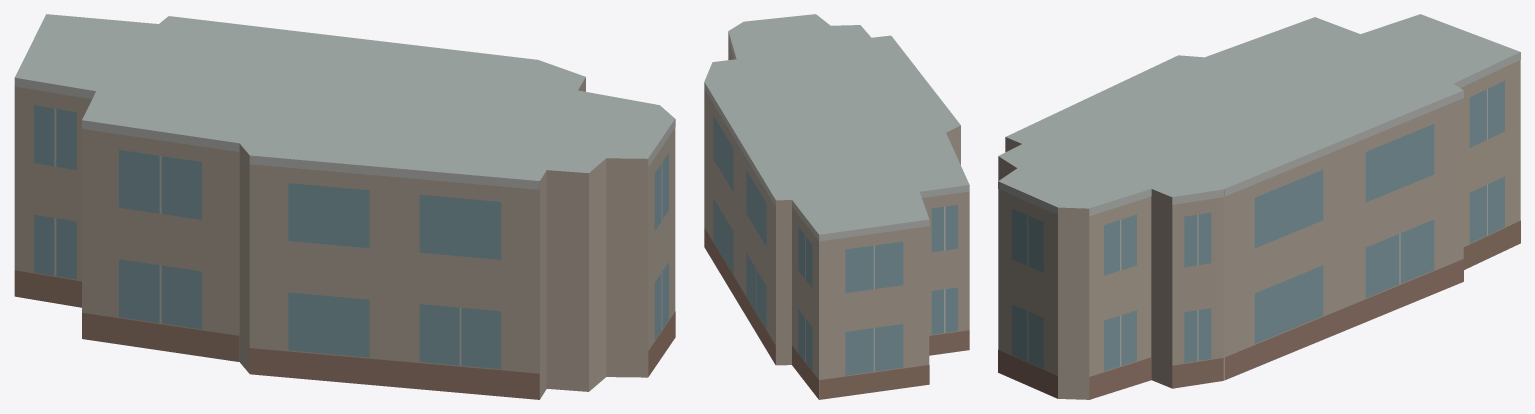
Rendered from survey-upis-32525520.glb.
3 views of the same model, side by side, from view 1: azimuth 30°, elevation 25°; view 2: azimuth 150°, elevation 25°; view 3: azimuth 270°, elevation 25° (orthographic). The views are drawn at different scales.
Visible parts, largest first — view 1: survey-upis-32525520.tmp; view 2: survey-upis-32525520.tmp; view 3: survey-upis-32525520.tmp.
Part boxes in pixels (bbox=[...]): survey-upis-32525520.tmp: bbox=[14, 14, 675, 399]; survey-upis-32525520.tmp: bbox=[704, 14, 969, 399]; survey-upis-32525520.tmp: bbox=[998, 14, 1520, 399].
Bounding box in the file's own units: 13.31 × 6.1 × 15.11.
